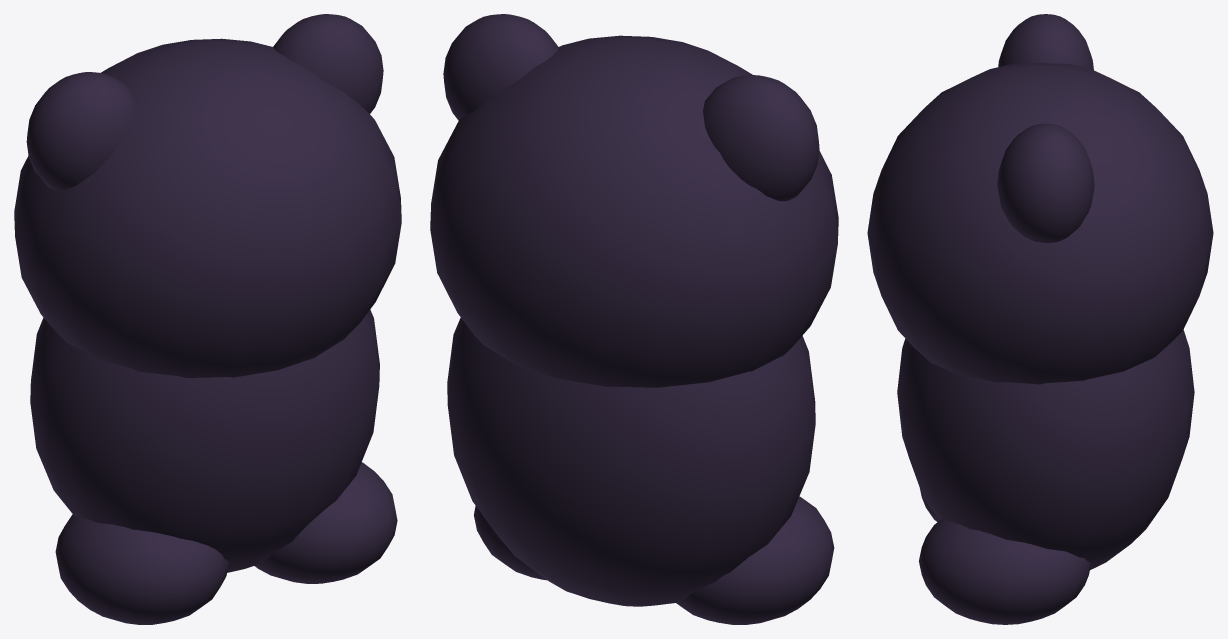
Rendered from SM_MysteryPlush.fbx.
3 views of the same model, side by side, from view 1: azimuth 30°, elevation 25°; view 2: azimuth 150°, elevation 25°; view 3: azimuth 270°, elevation 25° (orthographic). The views are drawn at different scales.
Visible parts, largest first — view 1: SM_MysteryPlush; view 2: SM_MysteryPlush; view 3: SM_MysteryPlush.
Boxes of the visible parts, x1,y1,x2,y2 form: SM_MysteryPlush: (14,14,401,624); SM_MysteryPlush: (430,14,838,624); SM_MysteryPlush: (867,14,1213,624).
Bounding box in the file's own units: 1.4 × 1.28 × 2.05.
